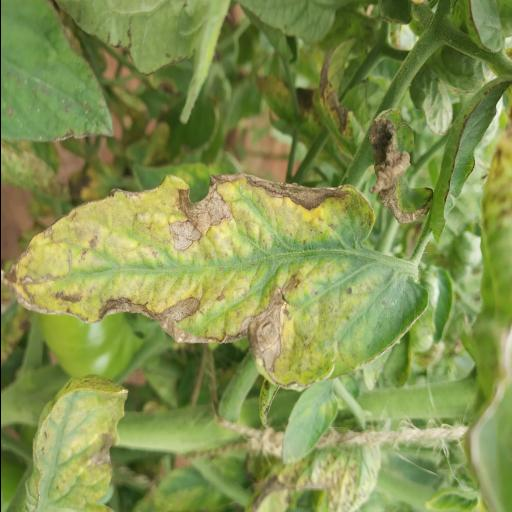disease_tomato: (0, 172, 428, 393)
